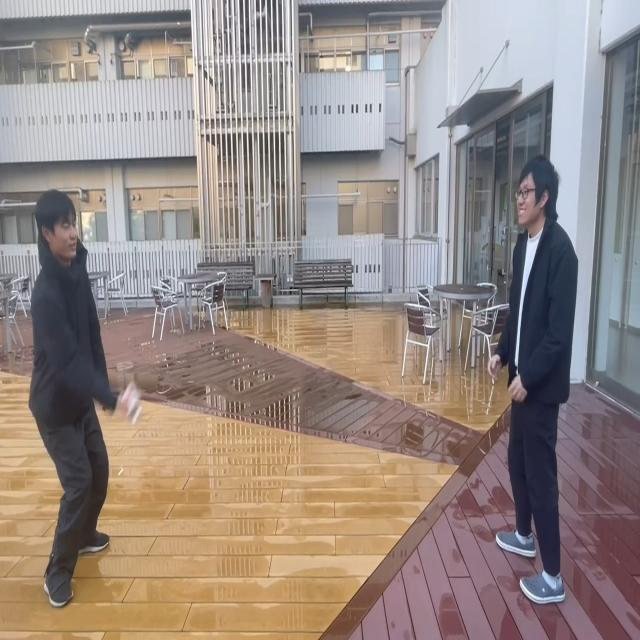bottle: (122, 381, 142, 421), (491, 360, 499, 384)
